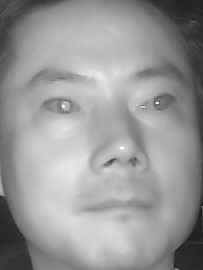eye: (39, 93, 84, 120), (132, 91, 178, 115)
mouth: (77, 182, 155, 224)
